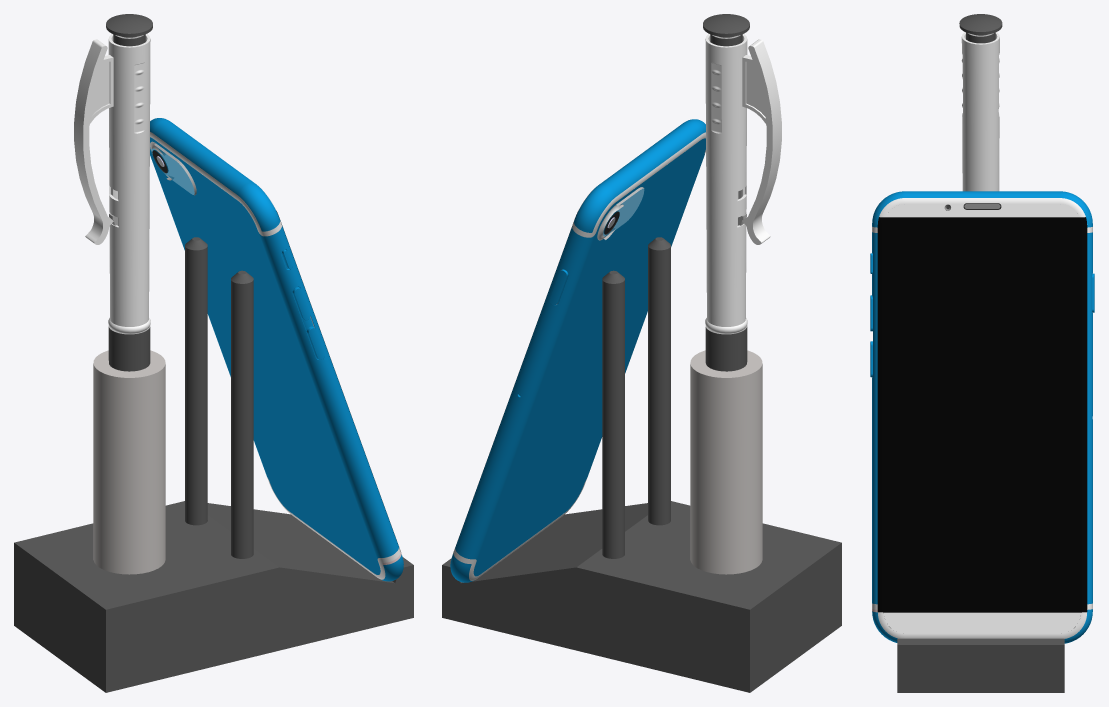
Rendered from config2.glb.
The picture shows the model from 3 angles, left to right: view 1: azimuth 30°, elevation 25°; view 2: azimuth 150°, elevation 25°; view 3: azimuth 270°, elevation 25°; orthographic projection. The views are drawn at different scales.
Visible parts, largest first — view 1: Socle-2, User Library-Iphone 8 v2-3, SADC-SADC Pen_SADC 001-1, Porte stylo-1, Module téléphone-2, Module téléphone-1, SADC-SADC Pen_SADC 002-2, SADC-SADC Pen_SADC 005-1; view 2: Socle-2, User Library-Iphone 8 v2-3, SADC-SADC Pen_SADC 001-1, Porte stylo-1, Module téléphone-1, Module téléphone-2, SADC-SADC Pen_SADC 002-2, SADC-SADC Pen_SADC 005-1; view 3: User Library-Iphone 8 v2-3, Socle-2, SADC-SADC Pen_SADC 001-1, SADC-SADC Pen_SADC 005-1.
Part boxes in pixels (x1,y1,x2,y2): Socle-2: [14, 501, 413, 692]; User Library-Iphone 8 v2-3: [150, 118, 403, 581]; SADC-SADC Pen_SADC 001-1: [74, 34, 150, 333]; Porte stylo-1: [93, 350, 165, 574]; Module téléphone-2: [185, 237, 207, 525]; Module téléphone-1: [231, 270, 253, 558]; SADC-SADC Pen_SADC 002-2: [108, 325, 150, 371]; SADC-SADC Pen_SADC 005-1: [106, 14, 152, 225]; Socle-2: [442, 501, 841, 692]; User Library-Iphone 8 v2-3: [450, 119, 705, 582]; SADC-SADC Pen_SADC 001-1: [705, 34, 781, 333]; Porte stylo-1: [690, 350, 762, 574]; Module téléphone-1: [648, 237, 670, 525]; Module téléphone-2: [602, 270, 624, 558]; SADC-SADC Pen_SADC 002-2: [705, 325, 747, 371]; SADC-SADC Pen_SADC 005-1: [703, 14, 749, 225]; User Library-Iphone 8 v2-3: [870, 191, 1094, 643]; Socle-2: [897, 638, 1064, 692]; SADC-SADC Pen_SADC 001-1: [961, 32, 999, 191]; SADC-SADC Pen_SADC 005-1: [959, 14, 1002, 43].
Bounding box in the file's own units: 0.0984 × 0.1899 × 0.068.
42 materials, 1 textured.
